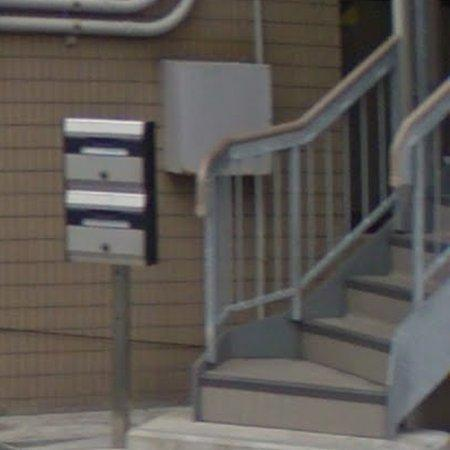stairs: (129, 235, 450, 450)
